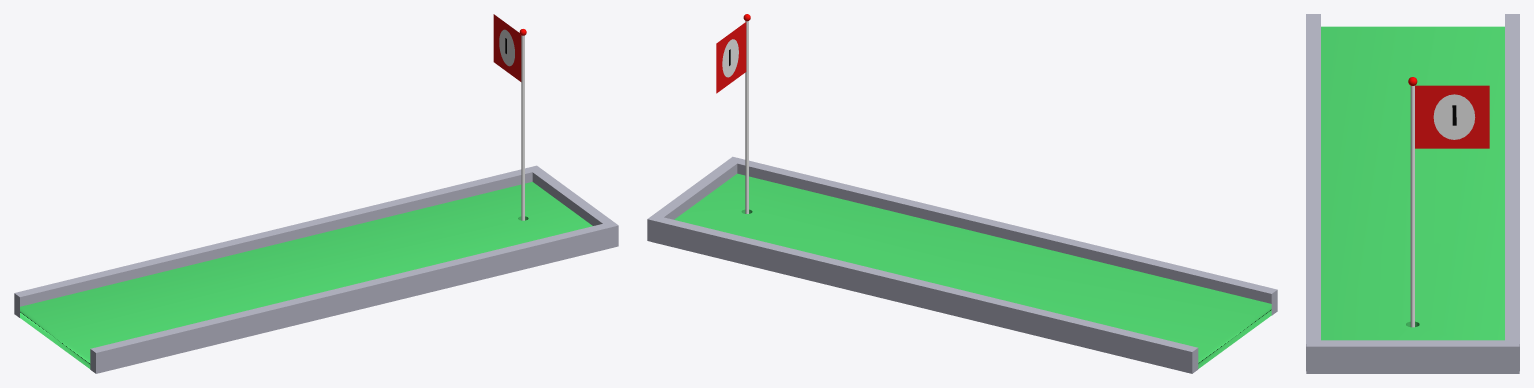
File: rigtig bane1.fbx
The picture shows the model from 3 angles, left to right: view 1: azimuth 30°, elevation 25°; view 2: azimuth 150°, elevation 25°; view 3: azimuth 270°, elevation 25°; orthographic projection. The views are drawn at different scales.
Visible parts, largest first — view 1: bane, Cube, Cube.002, Cube.001, Plane, Cylinder.001; view 2: bane, Cube.002, Cube, Cube.001, Plane, Cylinder.001; view 3: bane, Cube.001, Cube, Cube.002, Plane, Circle, Cylinder.001.
Part boxes in pixels (x1=…): bane: x1=20, y1=182, x2=592, y2=368; Cube: x1=90, y1=222, x2=614, y2=373; Cube.002: x1=14, y1=166, x2=537, y2=317; Cube.001: x1=532, y1=165, x2=618, y2=247; Plane: x1=493, y1=14, x2=521, y2=81; Cylinder.001: x1=521, y1=35, x2=524, y2=220; bane: x1=674, y1=173, x2=1271, y2=368; Cube.002: x1=652, y1=216, x2=1198, y2=373; Cube: x1=731, y1=158, x2=1277, y2=315; Cube.001: x1=647, y1=156, x2=737, y2=241; Plane: x1=716, y1=22, x2=746, y2=93; Cylinder.001: x1=745, y1=21, x2=748, y2=213; bane: x1=1321, y1=26, x2=1504, y2=340; Cube.001: x1=1306, y1=340, x2=1519, y2=373; Cube: x1=1306, y1=14, x2=1320, y2=370; Cube.002: x1=1505, y1=14, x2=1519, y2=370; Plane: x1=1415, y1=85, x2=1489, y2=148; Circle: x1=1433, y1=94, x2=1475, y2=139; Cylinder.001: x1=1410, y1=85, x2=1414, y2=327.
Bounding box in the file's own units: 341 × 127 × 92.48.
